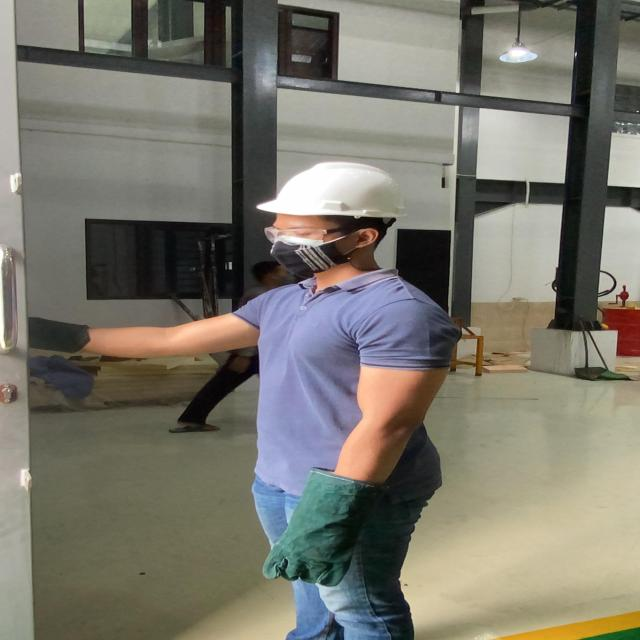face_mask: (252, 222, 352, 276)
glasses: (258, 219, 359, 247)
hand_glove: (246, 512, 376, 592)
head_helmet: (254, 157, 412, 222)
person: (150, 152, 516, 640)
